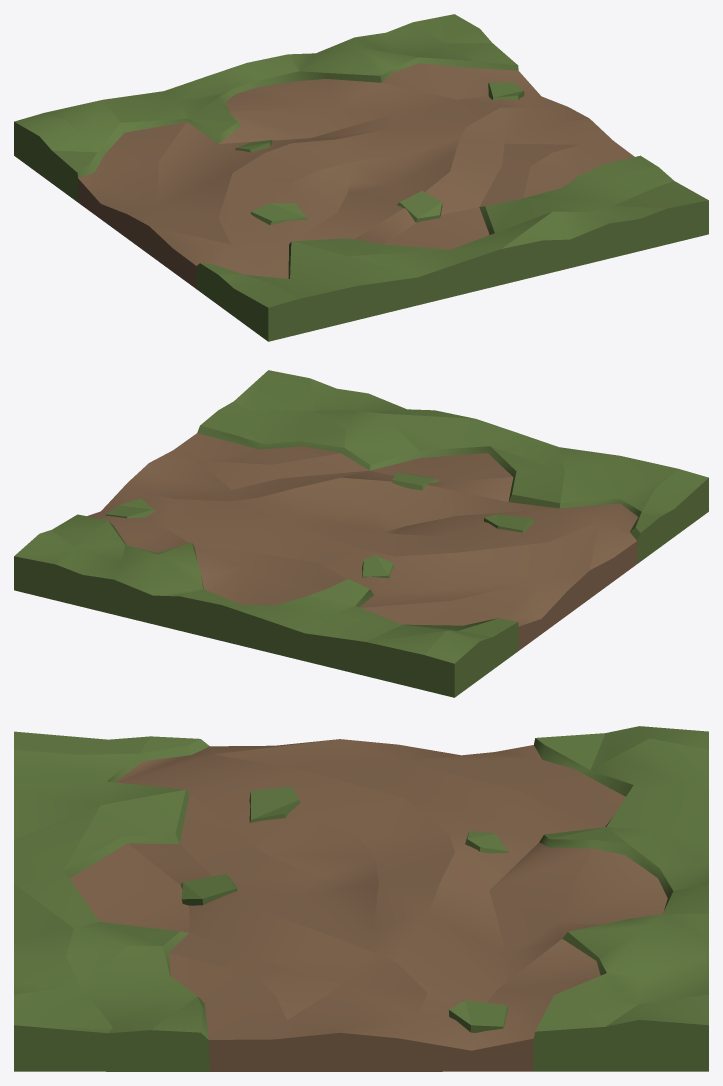
File: Ground_Path_H.glb
3 views of the same model, one above another, from view 1: azimuth 30°, elevation 25°; view 2: azimuth 150°, elevation 25°; view 3: azimuth 270°, elevation 25° (orthographic). The views are drawn at different scales.
Parts seen in each view (by area): view 1: Ground_Path_H; view 2: Ground_Path_H; view 3: Ground_Path_H.
Boxes of the visible parts, left/top/right/bottom form: Ground_Path_H: left=14, top=14, right=708, bottom=341; Ground_Path_H: left=14, top=370, right=708, bottom=697; Ground_Path_H: left=14, top=726, right=708, bottom=1071.
Size of the model in its own units: 1.47 by 0.1508 by 1.47.
